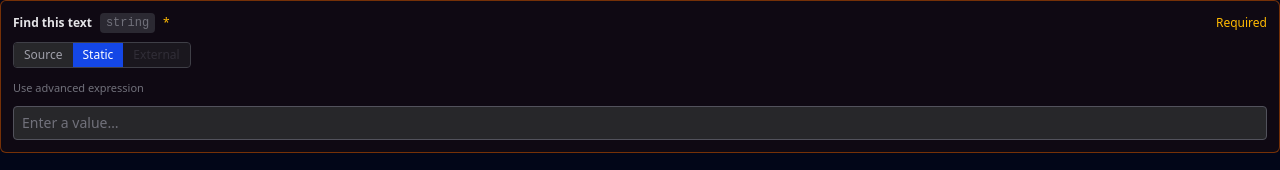
Scenario: ParameterValueInput — mode switching preserves values › Static→Source→Static preserves literal value
Type a static value
Type "hello" into the field with test id "pvi-static-input". click: (640, 123)
box: [13,106,1267,140]
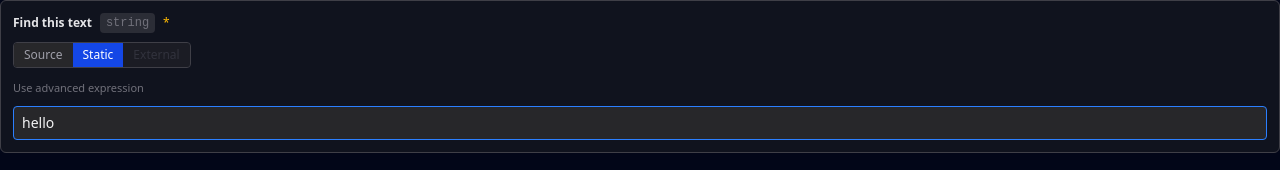
Switch to Source
Click the radio button with test id "pvi-mode-source". click: click(43, 55)
box: [14,43,72,67]
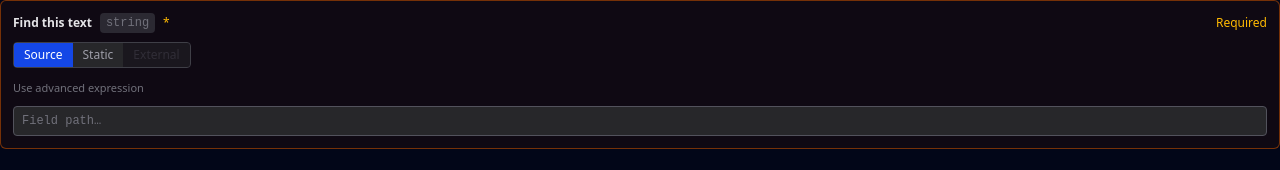
Switch back to Static
Click the radio button with test id "pvi-mode-static". click: click(98, 55)
box: [72,43,123,67]
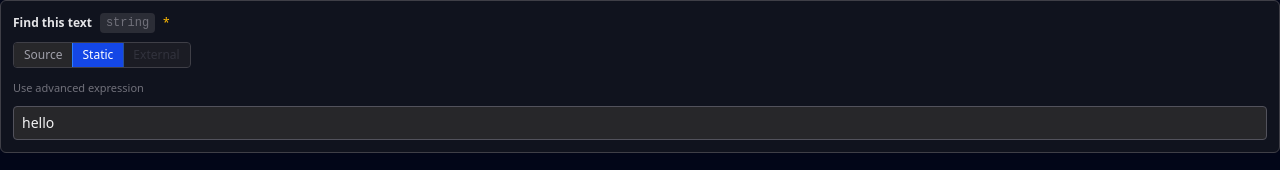
Check: the field with test id "pvi-static-input" holds "hello", box [13,106,1267,140]
